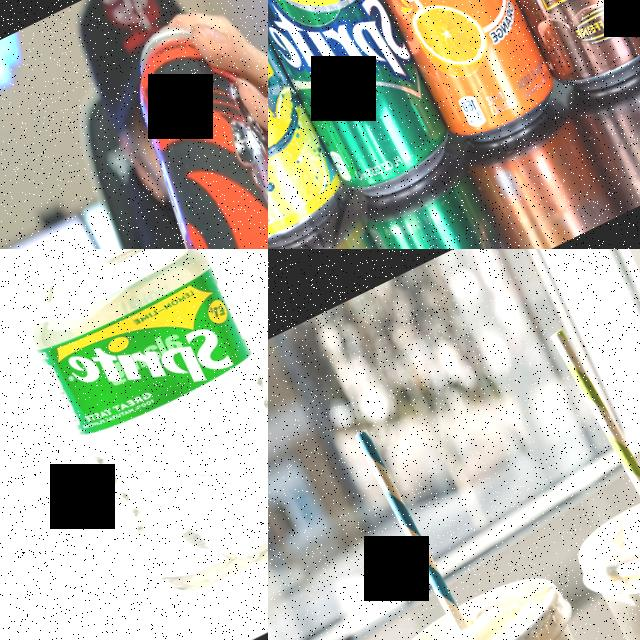bottle: (0, 249, 268, 610)
can: (62, 6, 268, 249), (268, 0, 462, 213), (324, 0, 568, 160), (432, 0, 640, 108), (268, 0, 354, 249)
